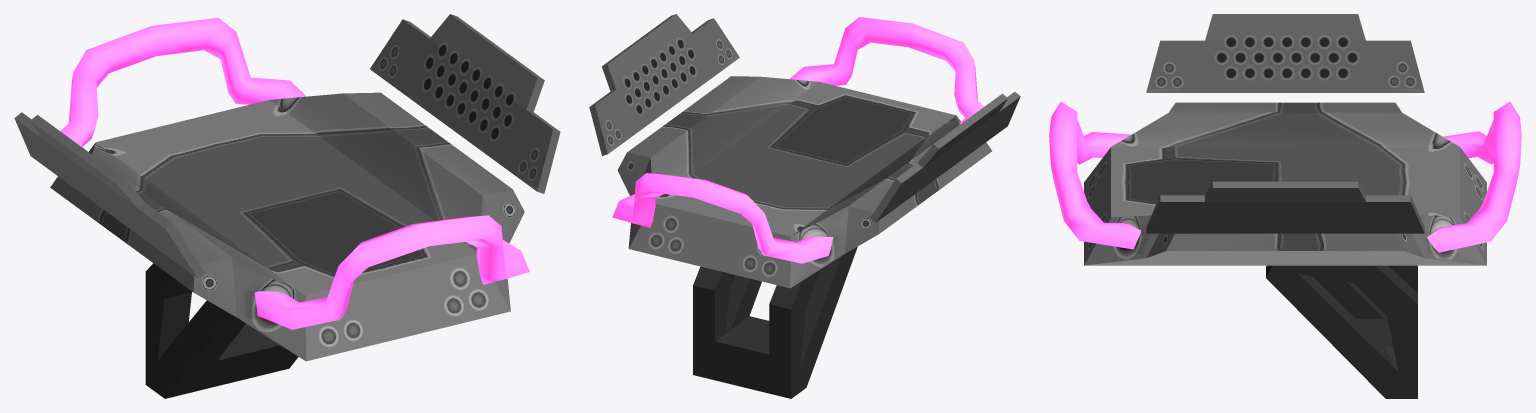
The model's file is shelf-output.glb.
The picture shows the model from 3 angles, left to right: view 1: azimuth 30°, elevation 25°; view 2: azimuth 150°, elevation 25°; view 3: azimuth 270°, elevation 25°; orthographic projection. The views are drawn at different scales.
Visible parts, largest first — view 1: Plane.004; view 2: Plane.004; view 3: Plane.004.
Part boxes in pixels (box(x1,y1,x2,y2)): Plane.004: box(14, 14, 560, 398); Plane.004: box(589, 14, 1020, 398); Plane.004: box(1049, 14, 1521, 398).
Bounding box in the file's own units: 8.57 × 6.35 × 9.86.
1 material, 1 textured.
